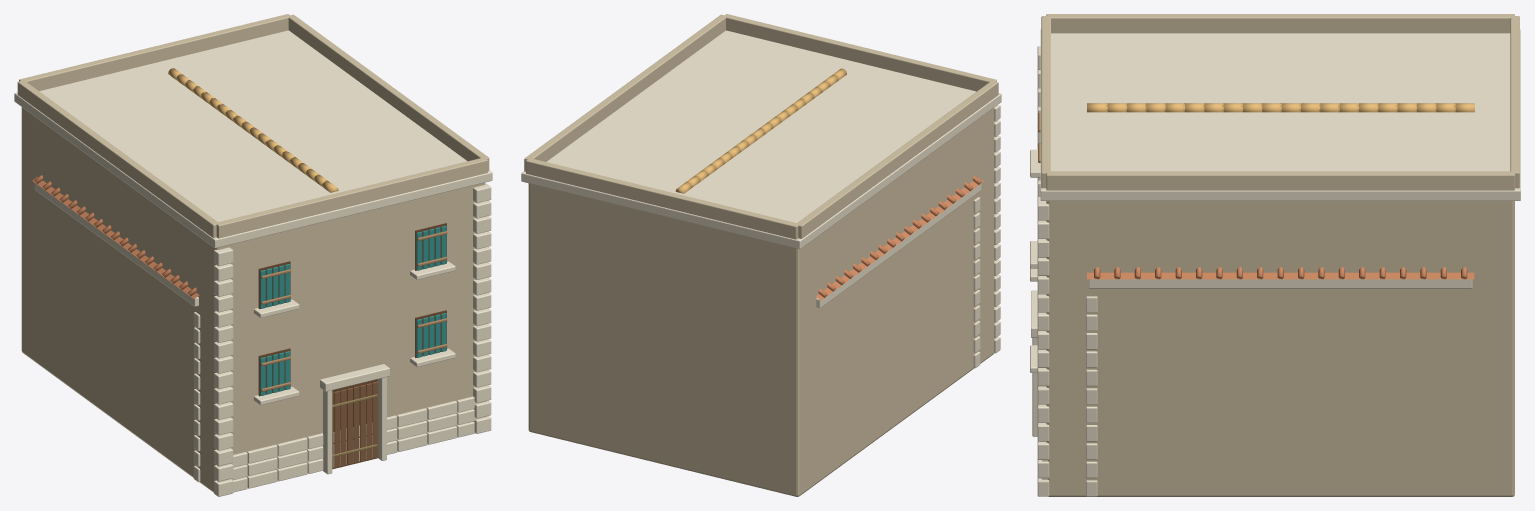
File: alexandria-kit.glb
3 renders of one model, left to right at view 1: azimuth 30°, elevation 25°; view 2: azimuth 150°, elevation 25°; view 3: azimuth 270°, elevation 25°, orthographic. The views are drawn at different scales.
Visible parts, largest first — view 1: courtyard-house__limestone, courtyard-house__marble, harbor-warehouse__limestone, courtyard-house__teal, courtyard-house__wood, harbor-warehouse__marble, courtyard-house__endgrain, harbor-warehouse__ochre, harbor-warehouse__clay, courtyard-house__woodlight; view 2: courtyard-house__limestone, courtyard-house__marble, harbor-warehouse__limestone, harbor-warehouse__marble, harbor-warehouse__ochre, harbor-warehouse__clay; view 3: courtyard-house__limestone, harbor-warehouse__limestone, courtyard-house__marble, harbor-warehouse__marble, harbor-warehouse__ochre, harbor-warehouse__clay.
Part boxes in pixels (<box>): courtyard-house__limestone: <box>17,14,489,492</box>; courtyard-house__marble: <box>14,30,492,496</box>; harbor-warehouse__limestone: <box>42,195,195,477</box>; courtyard-house__teal: <box>260,225,446,395</box>; courtyard-house__wood: <box>332,381,378,468</box>; harbor-warehouse__marble: <box>34,183,200,482</box>; courtyard-house__endgrain: <box>258,223,446,469</box>; harbor-warehouse__ochre: <box>168,68,338,192</box>; harbor-warehouse__clay: <box>32,175,199,299</box>; courtyard-house__woodlight: <box>261,231,447,391</box>; courtyard-house__limestone: <box>524,14,998,496</box>; courtyard-house__marble: <box>521,30,1001,353</box>; harbor-warehouse__limestone: <box>820,220,972,480</box>; harbor-warehouse__marble: <box>816,184,981,368</box>; harbor-warehouse__ochre: <box>675,68,846,193</box>; harbor-warehouse__clay: <box>816,175,983,300</box>; courtyard-house__limestone: <box>1041,14,1519,496</box>; harbor-warehouse__limestone: <box>1097,288,1463,496</box>; courtyard-house__marble: <box>1030,29,1520,496</box>; harbor-warehouse__marble: <box>1086,279,1472,496</box>; harbor-warehouse__ochre: <box>1087,103,1474,112</box>; harbor-warehouse__clay: <box>1087,267,1474,279</box>.
Bounding box in the file's own units: 8.11 × 7.8 × 10.15.
